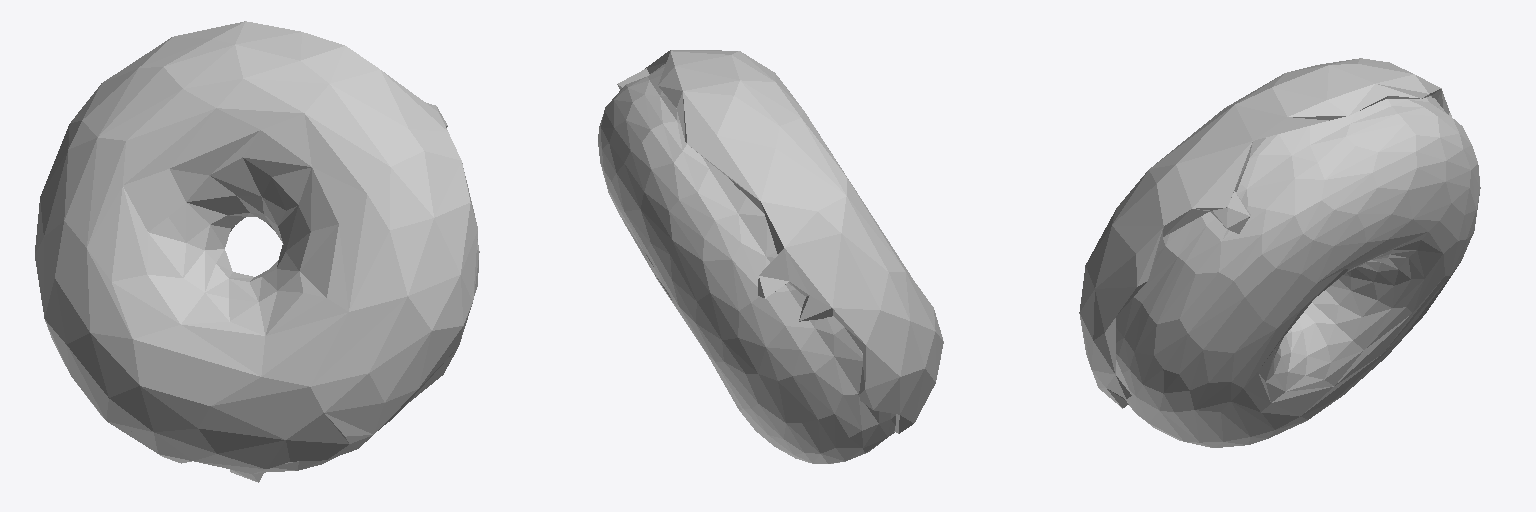
The model's file is donut.obj.
3 renders of one model, left to right at view 1: azimuth 30°, elevation 25°; view 2: azimuth 150°, elevation 25°; view 3: azimuth 270°, elevation 25°, orthographic.
Parts seen in each view (by area): view 1: Icing_Torus.002, Donut_Torus; view 2: Donut_Torus, Icing_Torus.002; view 3: Donut_Torus, Icing_Torus.002.
Boxes of the visible parts, <box> form: Icing_Torus.002: <box>35,21,477,482</box>; Donut_Torus: <box>131,226,479,472</box>; Donut_Torus: <box>598,64,895,463</box>; Icing_Torus.002: <box>617,50,943,433</box>; Donut_Torus: <box>1116,96,1480,447</box>; Icing_Torus.002: <box>1079,58,1451,408</box>.
Size of the model in its own units: 0.0884 by 0.0939 by 0.0886.